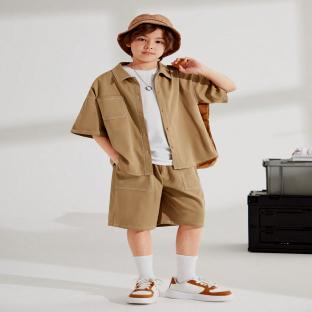Human: (71, 14, 237, 303)
